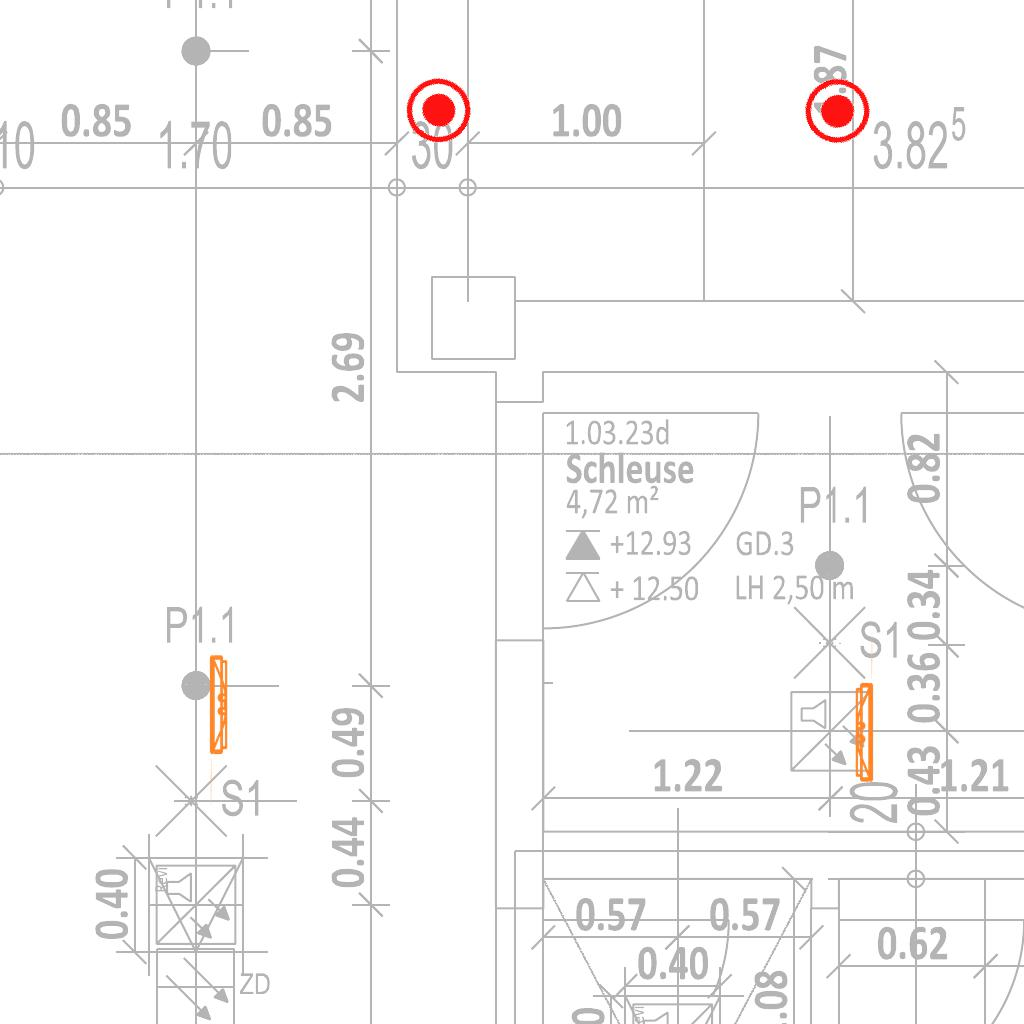Sicherheitsleuchte_Wandeinbau: (207, 650, 232, 809), (851, 628, 876, 787)
Taster: (391, 62, 485, 156), (794, 66, 884, 156)
